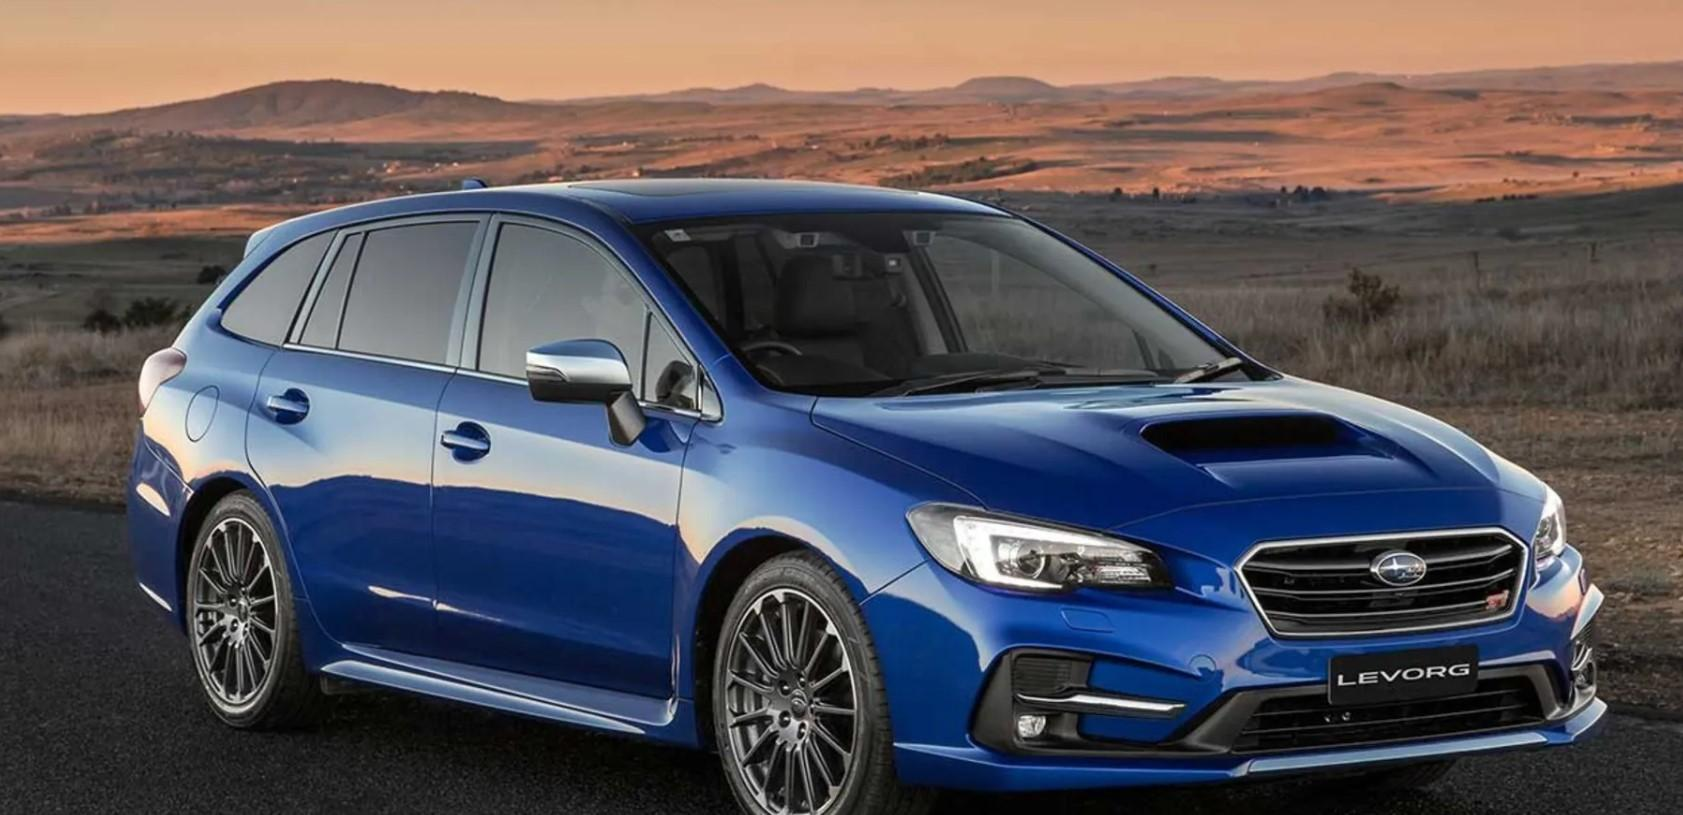subaru: (1360, 534, 1439, 598)
